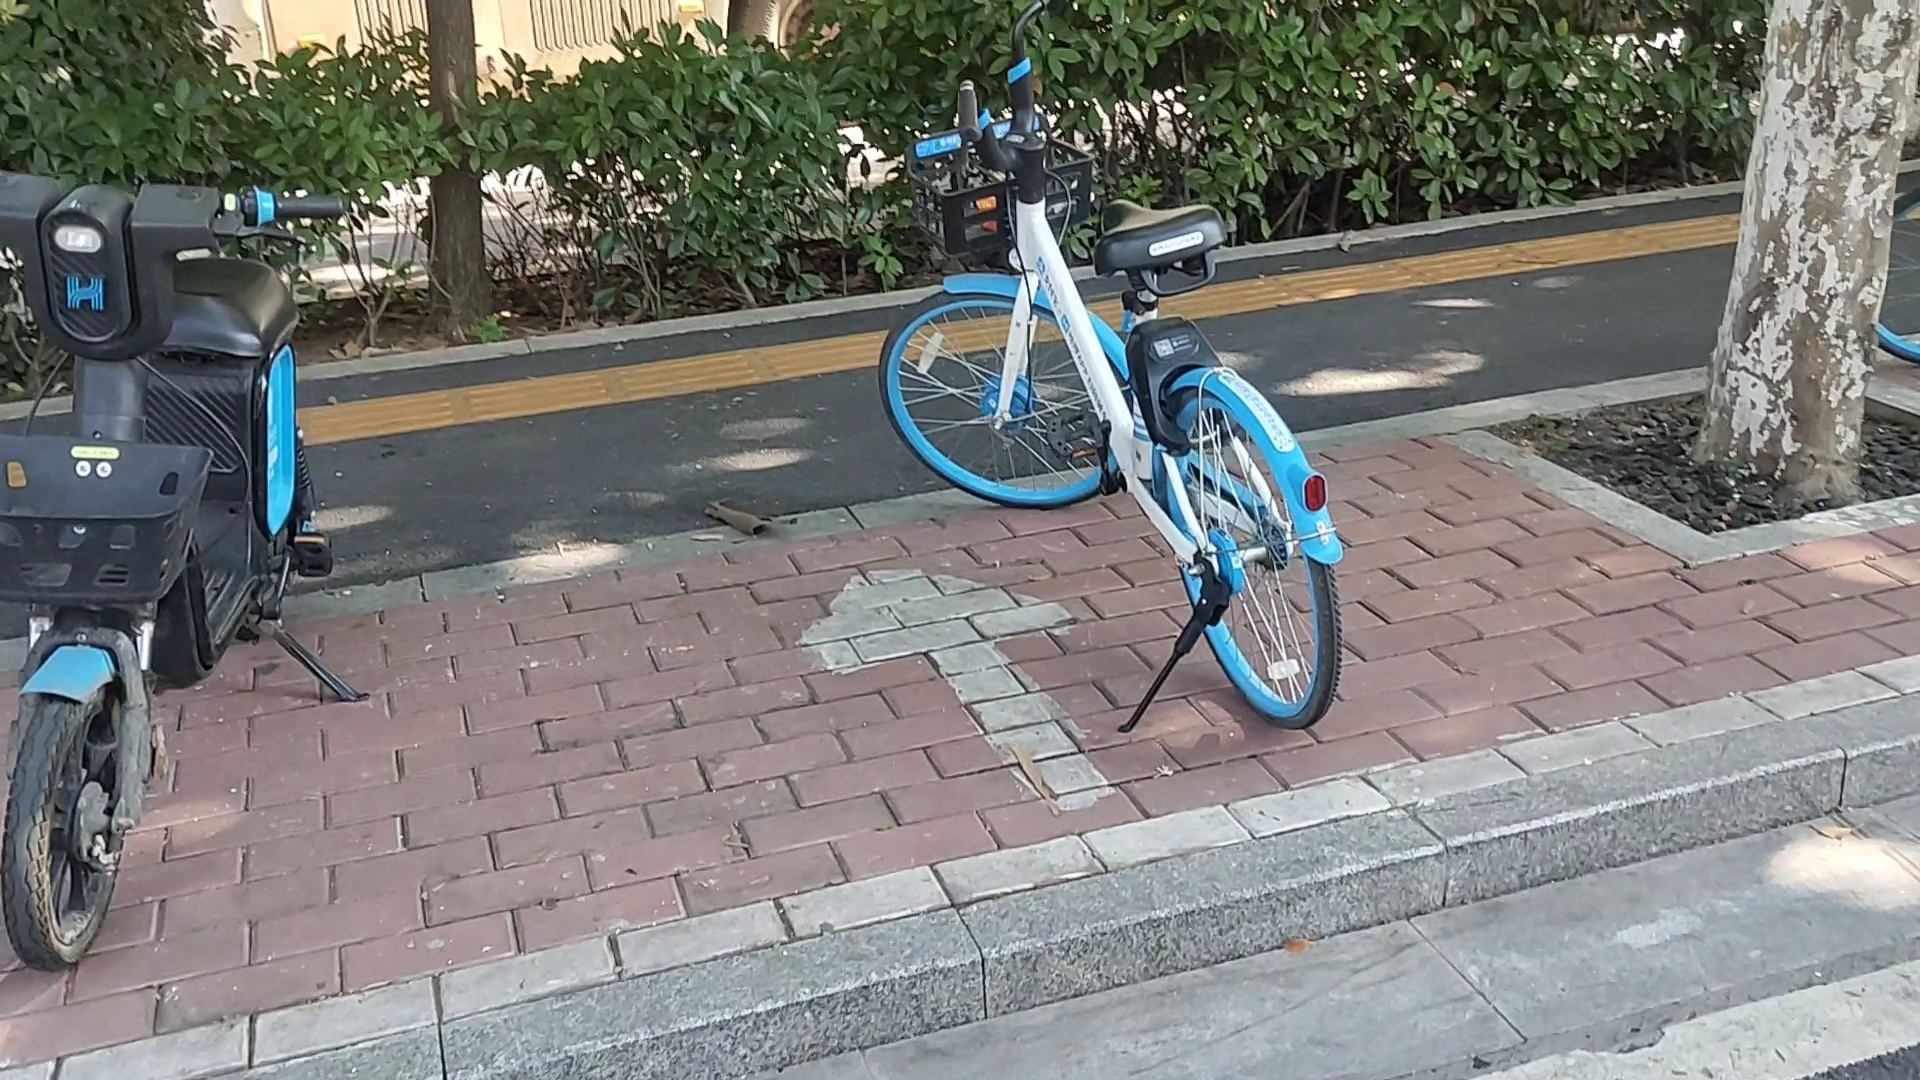non-vehicle: (889, 12, 1342, 767), (0, 141, 355, 972)
